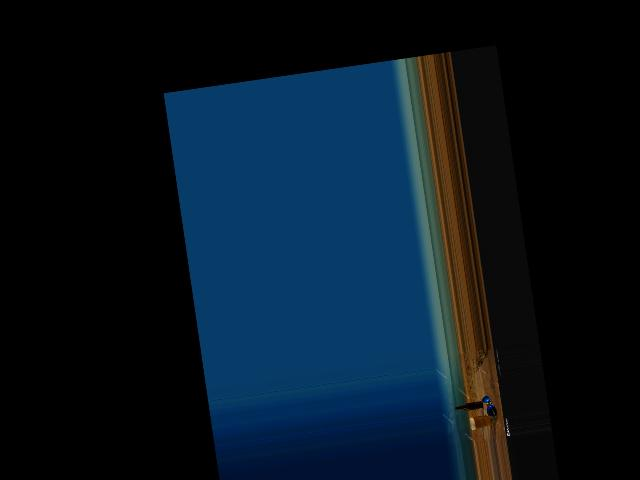beer: (454, 400, 483, 411)
